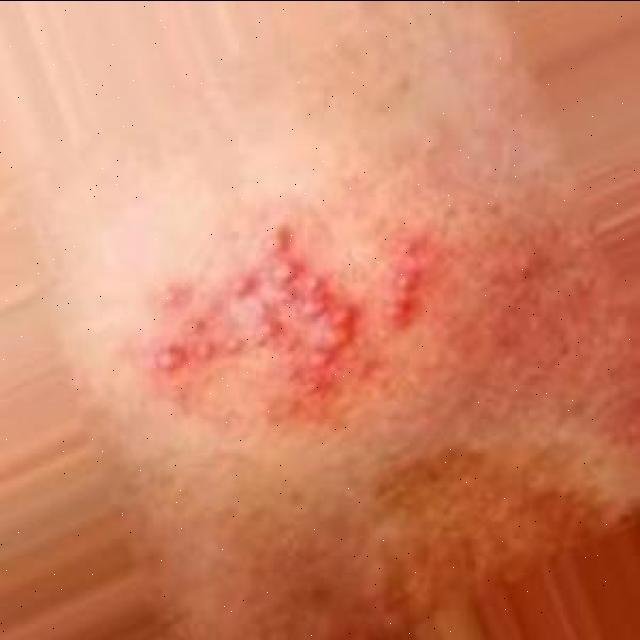Shingles: (139, 216, 424, 392)
